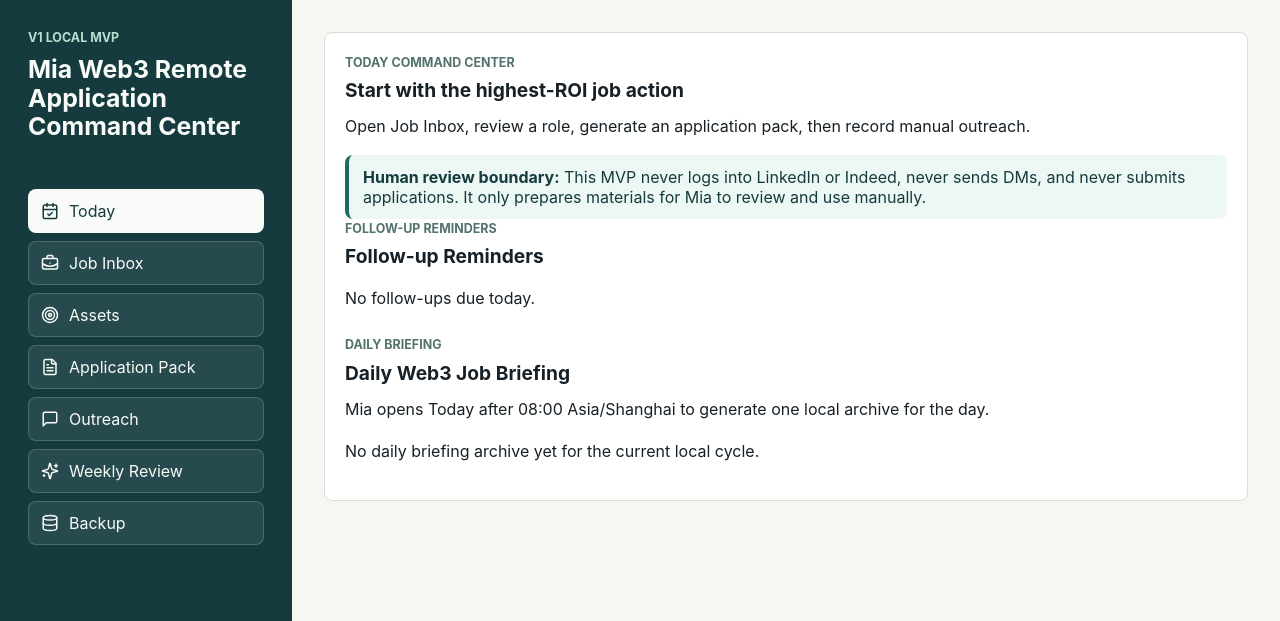
Scenario: App › shows a clear error state when job discovery fails
What coordinates should you click on to do the following:
click the button "Job Inbox"
I would click on:
 (146, 264)
Its box is [28,242,264,286].
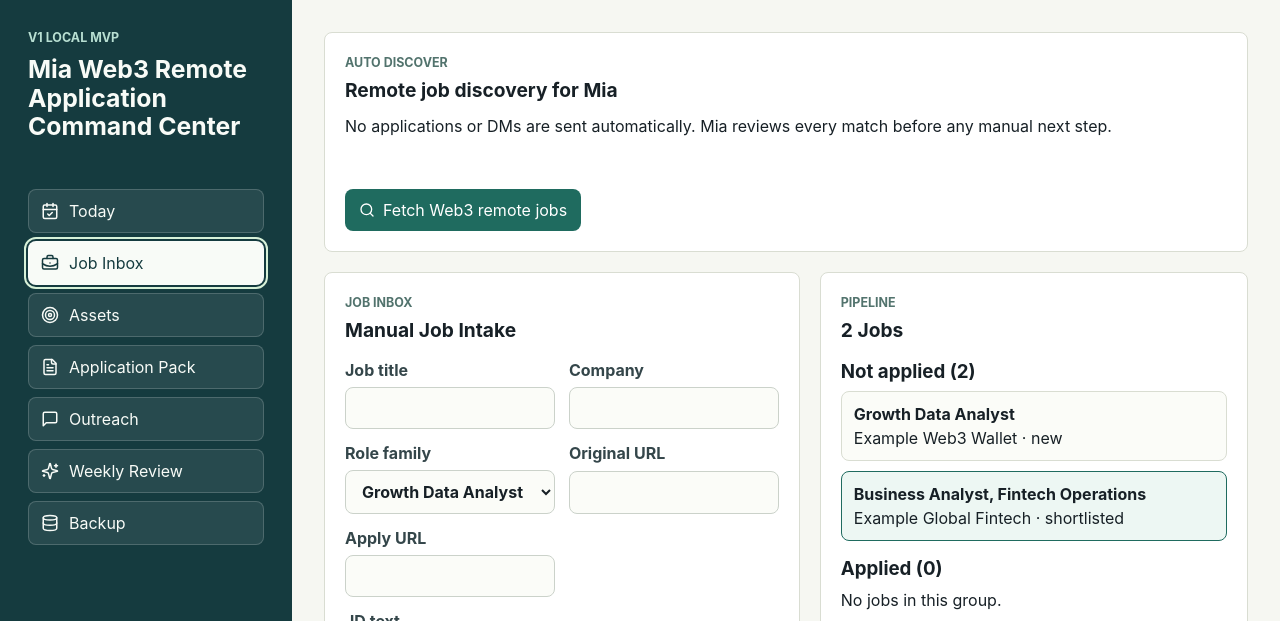
What coordinates should you click on to do the following:
click the button "Fetch Web3 remote jobs"
I would click on:
 (463, 210)
Its box is [345,189,581,231].
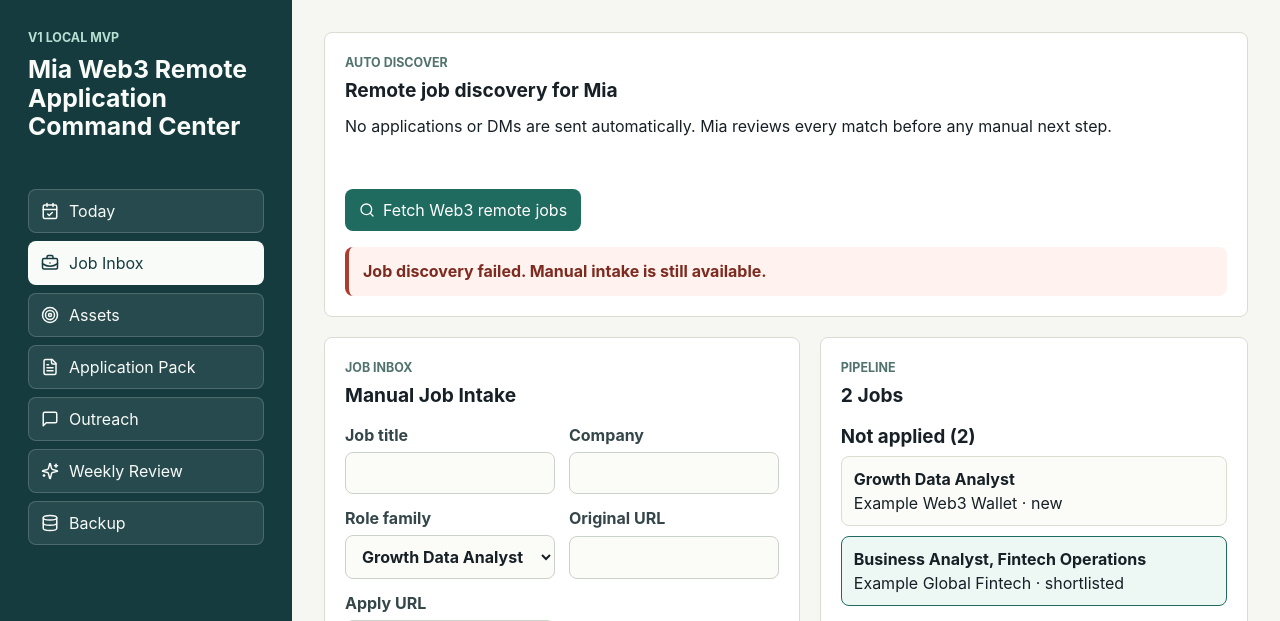
Now the text "Job discovery failed. Manual intake is still available." is shown, box [345,247,1227,296]
